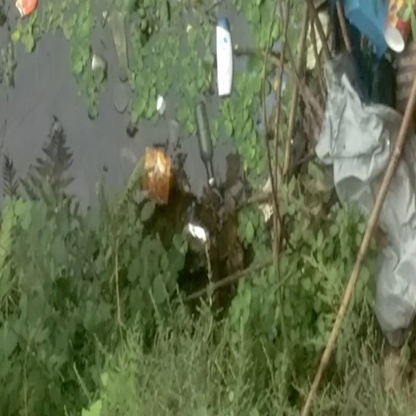bottle: (190, 100, 229, 195)
